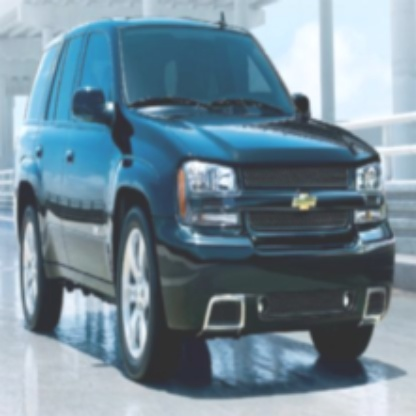Vehicle: (11, 10, 398, 385)
